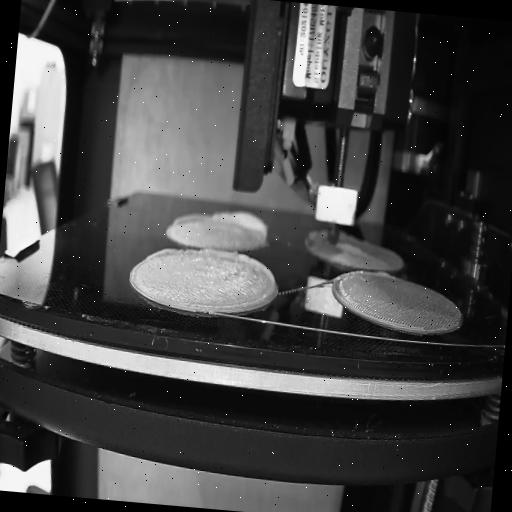over_extrusion: (202, 250, 279, 315), (210, 207, 274, 240), (146, 242, 182, 270), (172, 208, 208, 230), (336, 238, 368, 258), (374, 270, 399, 282)
